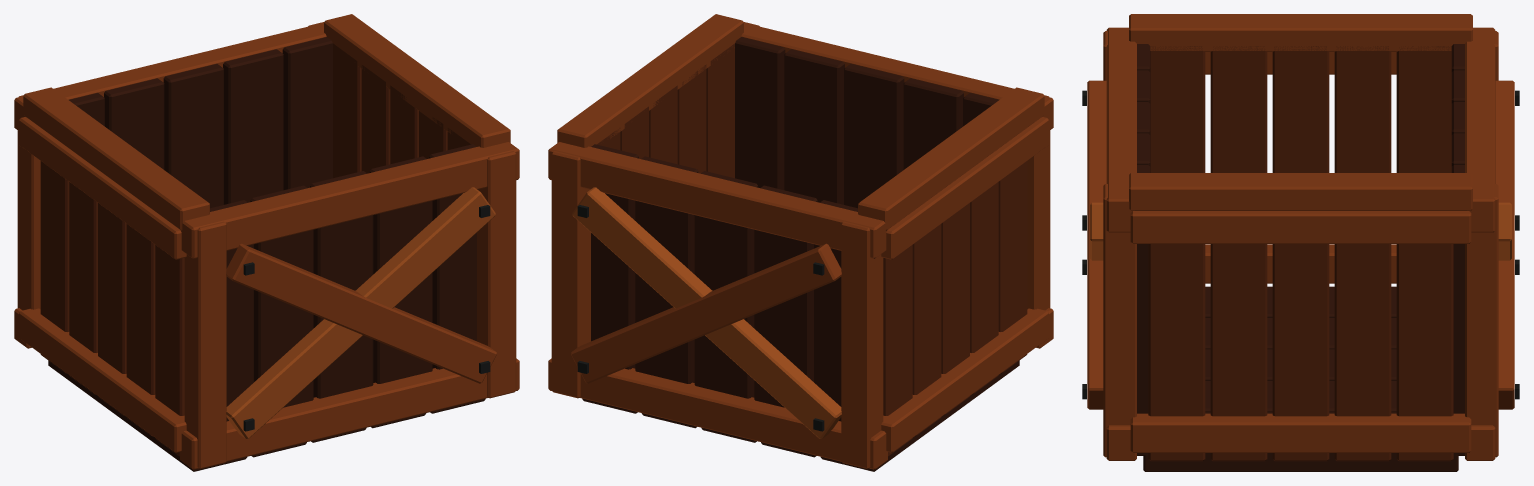
Rendered from ShippingCrate.glb.
3 views of the same model, side by side, from view 1: azimuth 30°, elevation 25°; view 2: azimuth 150°, elevation 25°; view 3: azimuth 270°, elevation 25° (orthographic). The views are drawn at different scales.
Visible parts, largest first — view 1: ShippingCrate; view 2: ShippingCrate; view 3: ShippingCrate.
Boxes of the visible parts, x1,y1,x2,y2 form: ShippingCrate: (14, 14, 519, 471); ShippingCrate: (548, 14, 1053, 471); ShippingCrate: (1082, 14, 1519, 471).
Size of the model in its own units: 2.4 by 1.84 by 2.47.
Materials: 1 (1 with a texture image).
